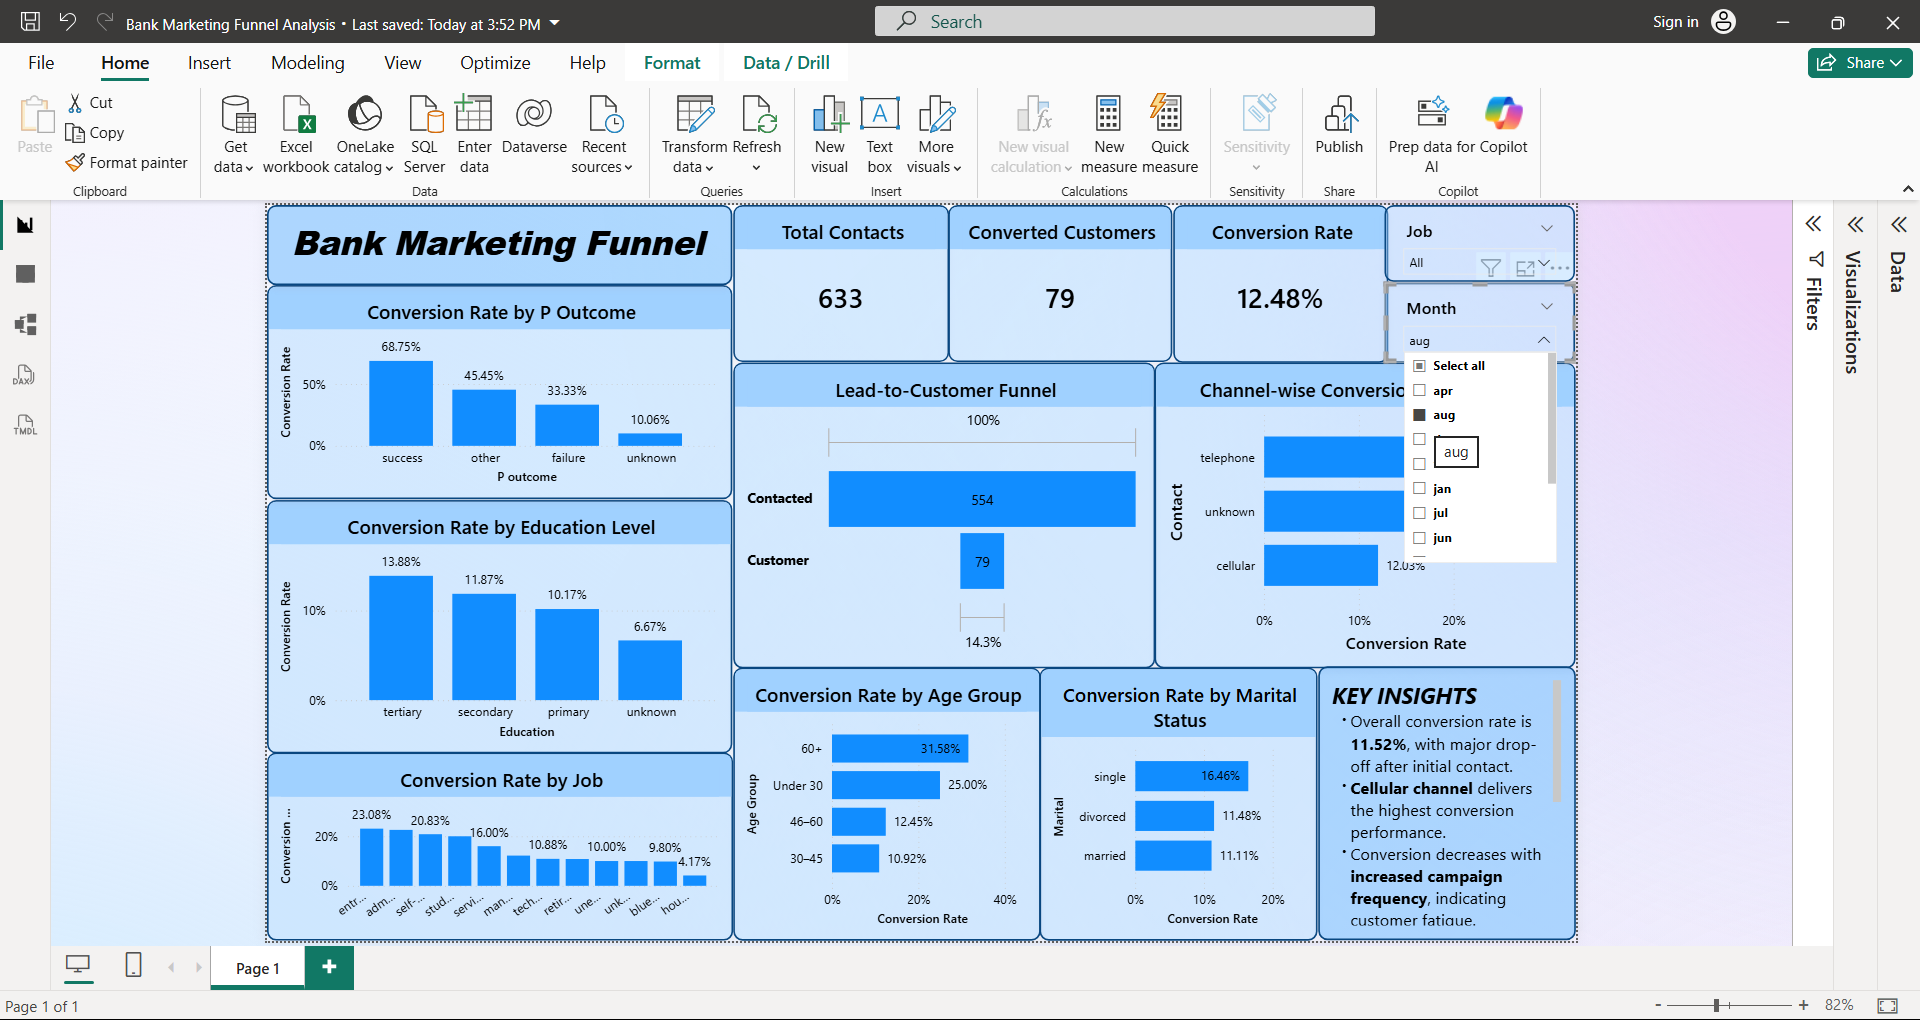

The dashboard page shown, as its layout file describes it:
{"tool":"powerbi","page":{"name":"Page 1","canvas":[1280,720],"ordinal":0},"visuals":[{"type":"card","title":"Total Contacts","fields":{"Values":["Cleaned_Bank_data.Total Contacts"]},"box":[455.6,0,211.3,153.7],"z":0},{"type":"card","title":"Converted Customers","fields":{"Values":["Cleaned_Bank_data.Total Customers"]},"box":[666.9,0,219.6,153.7],"z":1000},{"type":"card","title":"Conversion Rate","fields":{"Values":["Cleaned_Bank_data.Conversion Rate"]},"box":[886.6,0,210.3,154.1],"z":2000},{"type":"funnel","title":"Lead-to-Customer Funnel","fields":{"Y":["Cleaned_Bank_data.Funnel Count"],"Category":["Cleaned_Bank_data.Funnel Stage"]},"box":[455.6,153.7,413,299.1],"z":3000},{"type":"clusteredBarChart","title":"Channel-wise Conversion Performance","fields":{"Category":["Cleaned_Bank_data.Contact"],"Y":["Cleaned_Bank_data.Conversion Rate"]},"box":[868.6,153.7,411.7,299.1],"z":4000},{"type":"slicer","fields":{"Values":["Cleaned_Bank_data.Month"]},"box":[1093.7,75.5,186.6,78.2],"z":5000},{"type":"slicer","fields":{"Values":["Cleaned_Bank_data.Job"]},"box":[1093.7,0,186.6,75.5],"z":6000},{"type":"clusteredBarChart","title":"Conversion Rate by Marital Status","fields":{"Category":["Cleaned_Bank_data.Marital"],"Y":["Cleaned_Bank_data.Conversion Rate"]},"box":[756.1,452.8,271.7,267.6],"z":7000},{"type":"clusteredColumnChart","title":"Conversion Rate by Education Level","fields":{"Category":["Cleaned_Bank_data.Education"],"Y":["Cleaned_Bank_data.Conversion Rate"]},"box":[0,288.2,455.6,248.4],"z":8000},{"type":"clusteredBarChart","fields":{"Category":["Cleaned_Bank_data.Age Group"],"Y":["Cleaned_Bank_data.Conversion Rate"]},"box":[455.6,452.8,300.5,267.6],"z":9000},{"type":"clusteredColumnChart","title":"Conversion Rate by P Outcome","fields":{"Y":["Cleaned_Bank_data.Conversion Rate"],"Category":["Cleaned_Bank_data.P out Come"]},"box":[0,78.2,455.6,209.9],"z":10000},{"type":"textbox","title":"Bank Marketing Funnel","box":[0,0,455.6,78.2],"z":11000},{"type":"clusteredColumnChart","fields":{"Category":["Cleaned_Bank_data.Job"],"Y":["Cleaned_Bank_data.Conversion Rate"]},"box":[0,536,456,184],"z":12000},{"type":"textbox","box":[1028.4,451.2,251.9,267.8],"z":13000}]}

Visuals, with their boxes on the page's 1280x720 design canvas (x1, y1, x2, y2). These are canvas units, not pixel positions in the 1920x1020 screenshot, which may show the page scaled, cropped or inside an application window:
"Total Contacts" card: (x1=456, y1=0, x2=667, y2=154)
"Converted Customers" card: (x1=667, y1=0, x2=886, y2=154)
"Conversion Rate" card: (x1=887, y1=0, x2=1097, y2=154)
"Lead-to-Customer Funnel" funnel: (x1=456, y1=154, x2=869, y2=453)
"Channel-wise Conversion Performance" clusteredBarChart: (x1=869, y1=154, x2=1280, y2=453)
slicer - Cleaned_Bank_data.Month: (x1=1094, y1=76, x2=1280, y2=154)
slicer - Cleaned_Bank_data.Job: (x1=1094, y1=0, x2=1280, y2=76)
"Conversion Rate by Marital Status" clusteredBarChart: (x1=756, y1=453, x2=1028, y2=720)
"Conversion Rate by Education Level" clusteredColumnChart: (x1=0, y1=288, x2=456, y2=537)
clusteredBarChart - Cleaned_Bank_data.Age Group x Cleaned_Bank_data.Conversion Rate: (x1=456, y1=453, x2=756, y2=720)
"Conversion Rate by P Outcome" clusteredColumnChart: (x1=0, y1=78, x2=456, y2=288)
"Bank Marketing Funnel" textbox: (x1=0, y1=0, x2=456, y2=78)
clusteredColumnChart - Cleaned_Bank_data.Job x Cleaned_Bank_data.Conversion Rate: (x1=0, y1=536, x2=456, y2=720)
textbox: (x1=1028, y1=451, x2=1280, y2=719)
